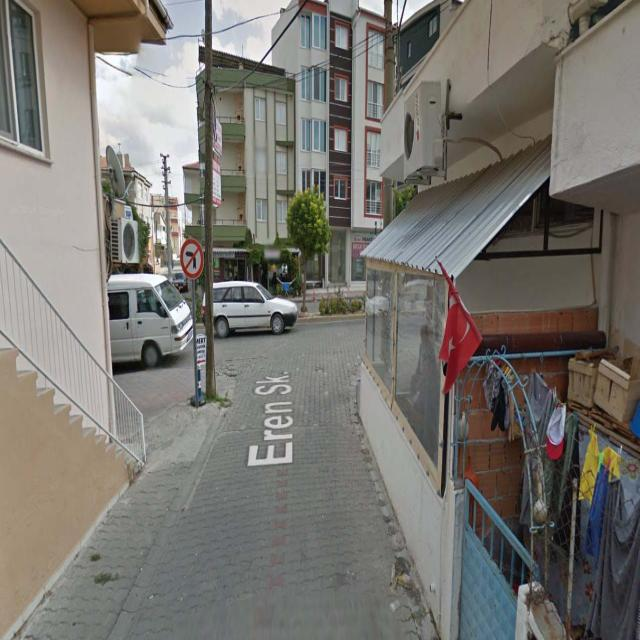soladonulmez: (181, 238, 203, 278)
